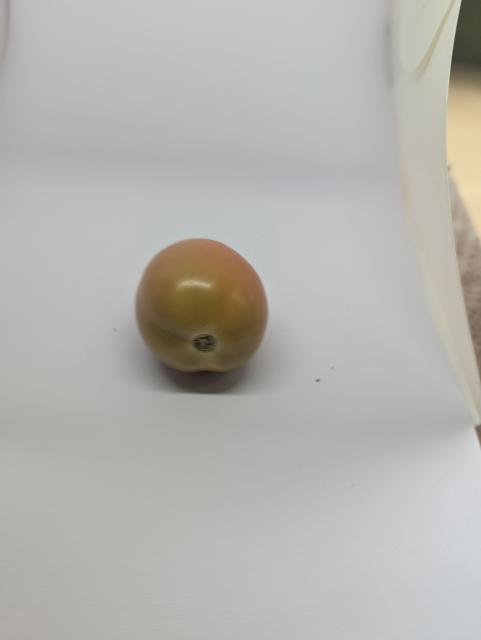turning: (126, 235, 280, 388)
